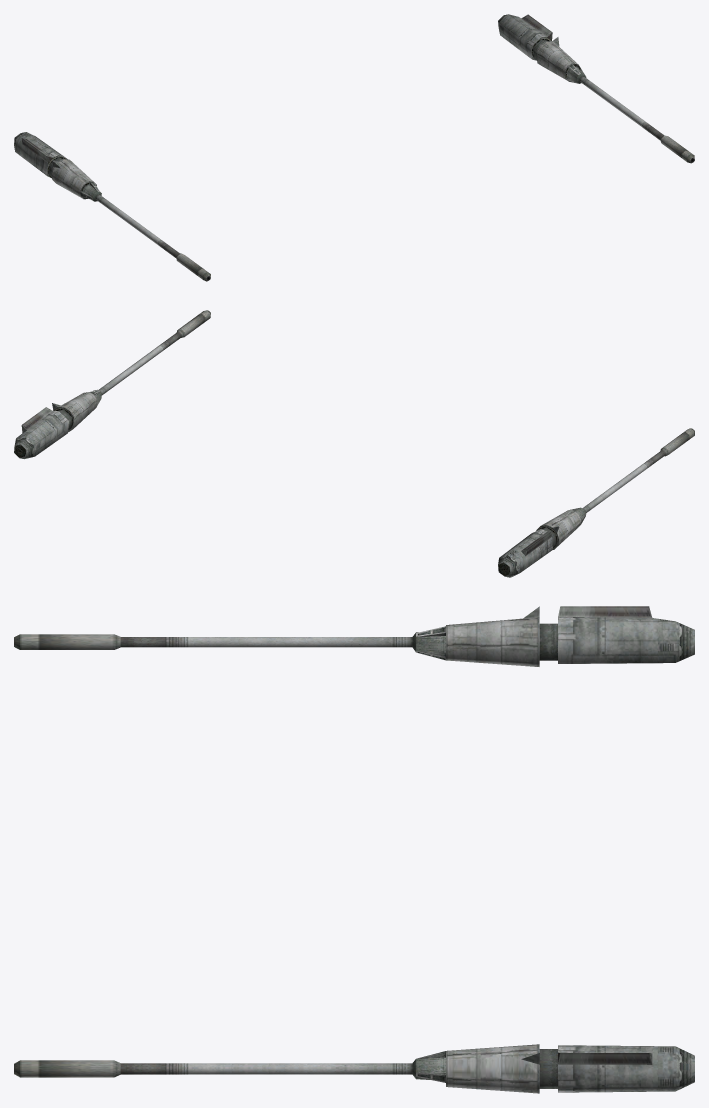
Rendered from hutt_fighter_medium_weapon2_s05_l1.fbx.
The picture shows the model from 3 angles, top to bottom: view 1: azimuth 30°, elevation 25°; view 2: azimuth 150°, elevation 25°; view 3: azimuth 270°, elevation 25°; orthographic projection. The views are drawn at different scales.
Parts seen in each view (by area): view 1: mesh_node; view 2: mesh_node; view 3: mesh_node.
Part boxes in pixels (bbox=[...]): mesh_node: bbox=[14, 14, 694, 281]; mesh_node: bbox=[14, 310, 694, 577]; mesh_node: bbox=[14, 606, 694, 1093].
Bounding box in the file's own units: 13.7 × 0.6958 × 8.8.
Materials: 1 (1 with a texture image).
